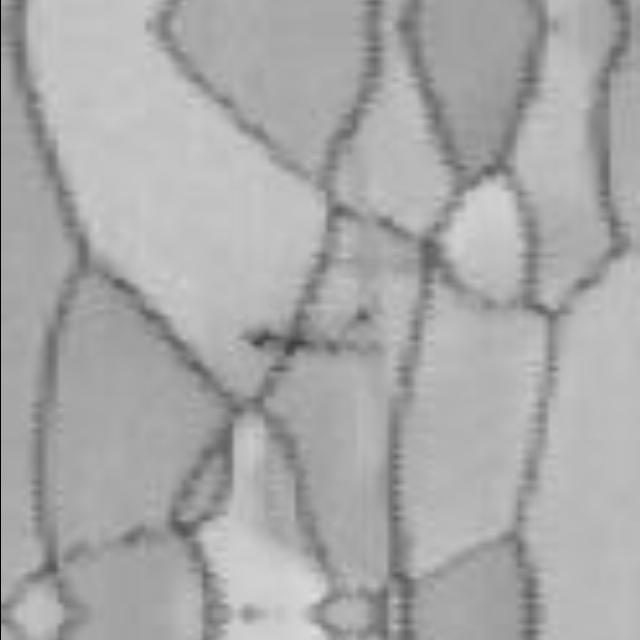good_void: (243, 330, 341, 345), (351, 309, 372, 319)
